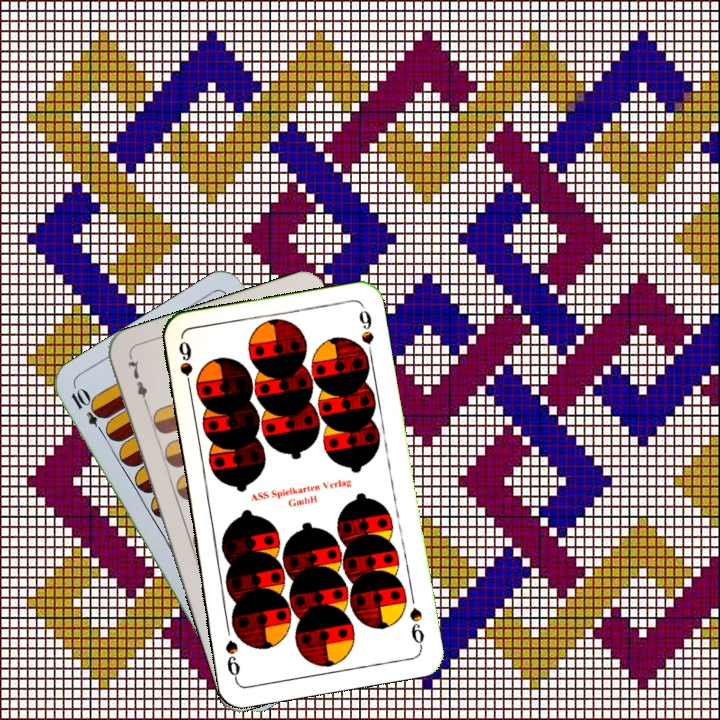E10: (66, 385, 109, 439)
E7: (123, 353, 152, 410)
S9: (174, 337, 195, 396), (405, 603, 427, 650)
